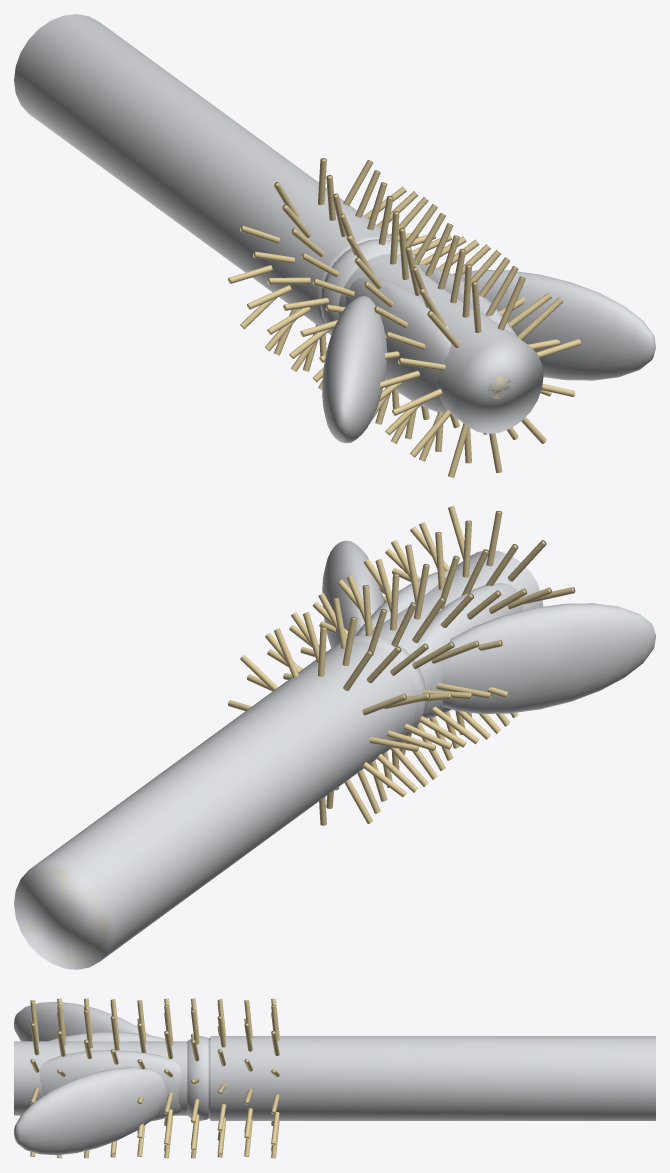
The model's file is accessories.glb.
3 views of the same model, one above another, from view 1: azimuth 30°, elevation 25°; view 2: azimuth 150°, elevation 25°; view 3: azimuth 270°, elevation 25° (orthographic). The views are drawn at different scales.
Parts seen in each view (by area): view 1: ACC_forceps_open, ACC_forceps_closed, ACC_brush_exposed, ACC_brush_sheathed; view 2: ACC_forceps_open, ACC_forceps_closed, ACC_brush_exposed, ACC_brush_sheathed; view 3: ACC_forceps_closed, ACC_forceps_open, ACC_brush_exposed, ACC_brush_sheathed.
Boxes of the visible parts, x1,y1,x2,y2 form: ACC_forceps_open: (25, 22, 655, 443); ACC_forceps_closed: (14, 14, 516, 412); ACC_brush_exposed: (228, 158, 581, 477); ACC_brush_sheathed: (338, 254, 543, 433); ACC_forceps_open: (56, 540, 655, 945); ACC_forceps_closed: (14, 570, 523, 969); ACC_brush_exposed: (21, 506, 575, 962); ACC_brush_sheathed: (21, 550, 543, 962); ACC_forceps_closed: (39, 1032, 655, 1121); ACC_forceps_open: (14, 1001, 638, 1155); ACC_brush_exposed: (30, 998, 279, 1158); ACC_brush_sheathed: (14, 1041, 187, 1115).
Bounding box in the file's own units: 5.1 × 2.99 × 12.
